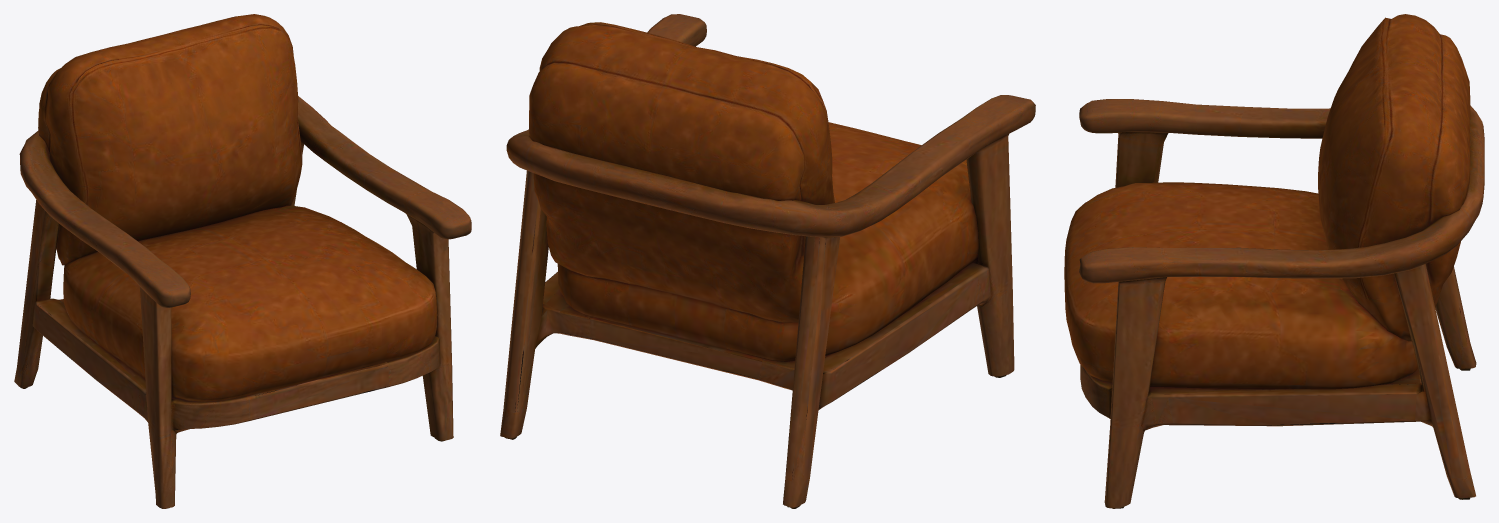
File: cognac-reading-chair-v1.glb
3 views of the same model, side by side, from view 1: azimuth 30°, elevation 25°; view 2: azimuth 150°, elevation 25°; view 3: azimuth 270°, elevation 25° (orthographic). The views are drawn at different scales.
Parts seen in each view (by area): view 1: geometry_0; view 2: geometry_0; view 3: geometry_0.
Boxes of the visible parts, box(x1,y1,x2,y2) form: geometry_0: box(14, 14, 471, 508); geometry_0: box(500, 14, 1035, 508); geometry_0: box(1064, 14, 1484, 508).
Bounding box in the file's own units: 0.8999 × 0.938 × 0.9565.
1 material, 1 textured.
